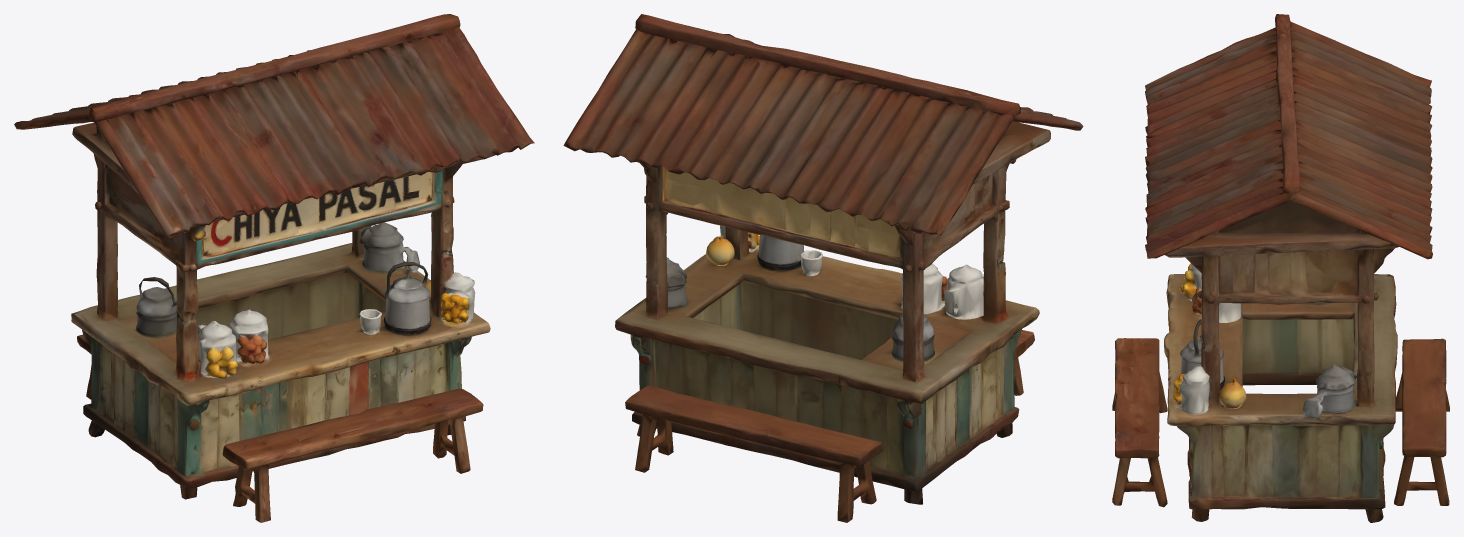
File: tea_stall.glb
3 views of the same model, side by side, from view 1: azimuth 30°, elevation 25°; view 2: azimuth 150°, elevation 25°; view 3: azimuth 270°, elevation 25° (orthographic). The views are drawn at different scales.
Parts seen in each view (by area): view 1: tripo_node_ee6e8965-61bd-4a47-bc94-c7d54592d4f0; view 2: tripo_node_ee6e8965-61bd-4a47-bc94-c7d54592d4f0; view 3: tripo_node_ee6e8965-61bd-4a47-bc94-c7d54592d4f0.
Part boxes in pixels (x1,y1,x2,y2): tripo_node_ee6e8965-61bd-4a47-bc94-c7d54592d4f0: [14, 14, 534, 522]; tripo_node_ee6e8965-61bd-4a47-bc94-c7d54592d4f0: [563, 14, 1083, 522]; tripo_node_ee6e8965-61bd-4a47-bc94-c7d54592d4f0: [1112, 14, 1449, 522].
Bounding box in the file's own units: 1 × 0.957 × 0.8105.
1 material, 1 textured.
